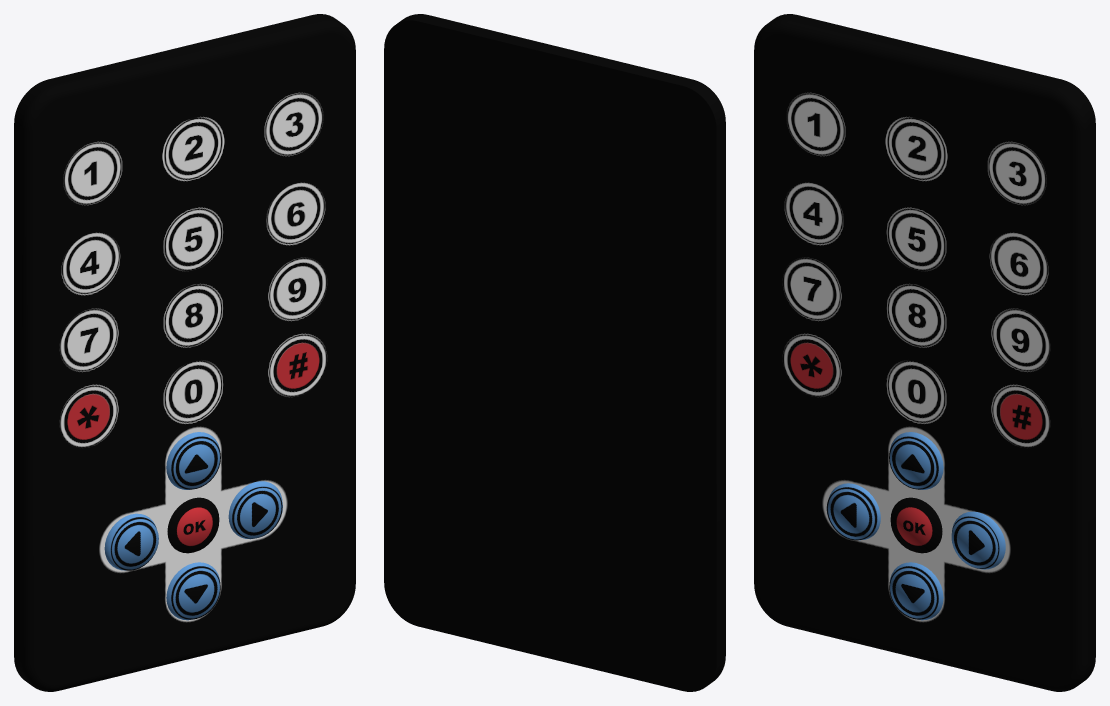
The model's file is remote.glb.
3 views of the same model, side by side, from view 1: azimuth 30°, elevation 25°; view 2: azimuth 150°, elevation 25°; view 3: azimuth 330°, elevation 25° (orthographic).
Parts seen in each view (by area): view 1: Cube, frontButton, backButton, rightButton, leftButton, Cylinder.001; view 2: Cube; view 3: Cube, frontButton, backButton, rightButton, leftButton, Cylinder.001.
Part boxes in pixels (left/top/right/bottom): Cube: left=14, top=14, right=355, bottom=691; frontButton: left=166, top=432, right=220, bottom=489; backButton: left=166, top=562, right=220, bottom=620; rightButton: left=228, top=481, right=282, bottom=539; leftButton: left=104, top=513, right=158, bottom=570; Cylinder.001: left=167, top=497, right=219, bottom=553; Cube: left=384, top=14, right=725, bottom=691; Cube: left=754, top=14, right=1095, bottom=691; frontButton: left=889, top=432, right=943, bottom=489; backButton: left=889, top=562, right=943, bottom=620; rightButton: left=951, top=511, right=1005, bottom=569; leftButton: left=826, top=483, right=880, bottom=540; Cylinder.001: left=890, top=497, right=942, bottom=553.
Size of the model in its own units: 0.197 by 0.3425 by 0.017.
2 materials, 2 textured.
